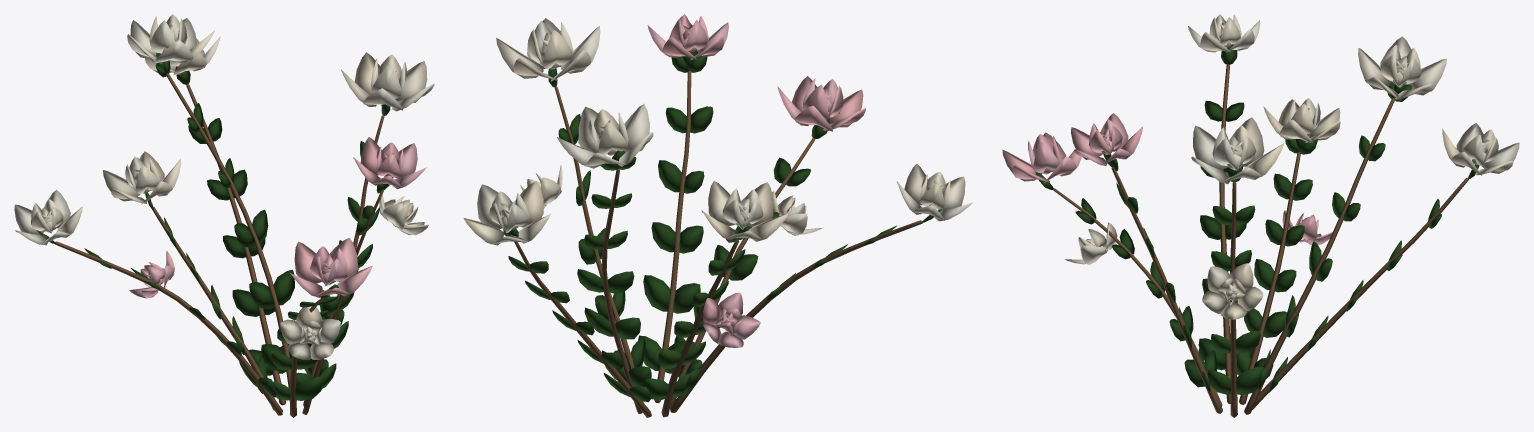
File: potfill_rose_white.glb
The picture shows the model from 3 angles, left to right: view 1: azimuth 30°, elevation 25°; view 2: azimuth 150°, elevation 25°; view 3: azimuth 270°, elevation 25°; orthographic projection. The views are drawn at different scales.
Visible parts, largest first — view 1: Sammel Pflanze, Sammel Holz; view 2: Sammel Pflanze, Sammel Holz; view 3: Sammel Pflanze, Sammel Holz.
Boxes of the visible parts, box(x1,y1,x2,y2) form: Sammel Pflanze: box(14, 14, 434, 400); Sammel Holz: box(55, 73, 384, 417); Sammel Pflanze: box(463, 14, 973, 402); Sammel Holz: box(514, 71, 922, 417); Sammel Pflanze: box(1002, 14, 1519, 395); Sammel Holz: box(1053, 64, 1468, 417).
Bounding box in the file's own units: 0.6066 × 0.4712 × 0.6431.
